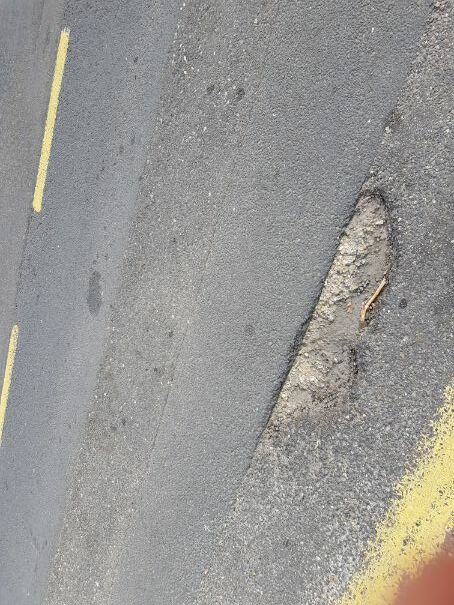pothole: (258, 179, 407, 443)
